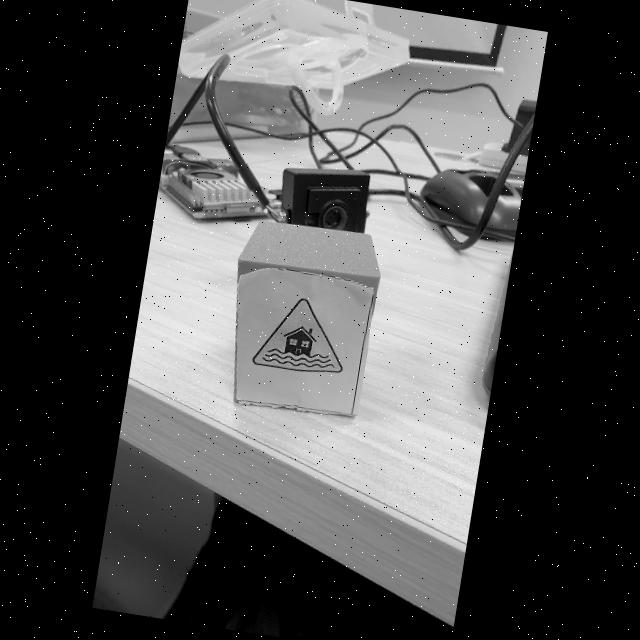Tsunami: (252, 299, 342, 373)
